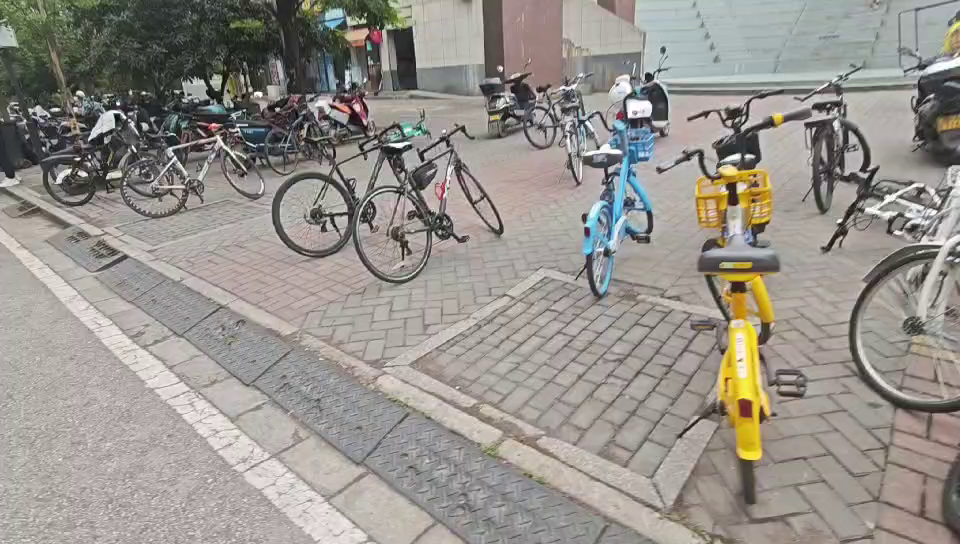others: (350, 120, 501, 281), (275, 118, 415, 260), (116, 119, 265, 222), (796, 59, 876, 215), (42, 127, 172, 204), (522, 47, 592, 158), (480, 61, 529, 135)
shared_bike_haluo: (577, 93, 659, 302)
shared_bike_meituan: (659, 120, 820, 501)
